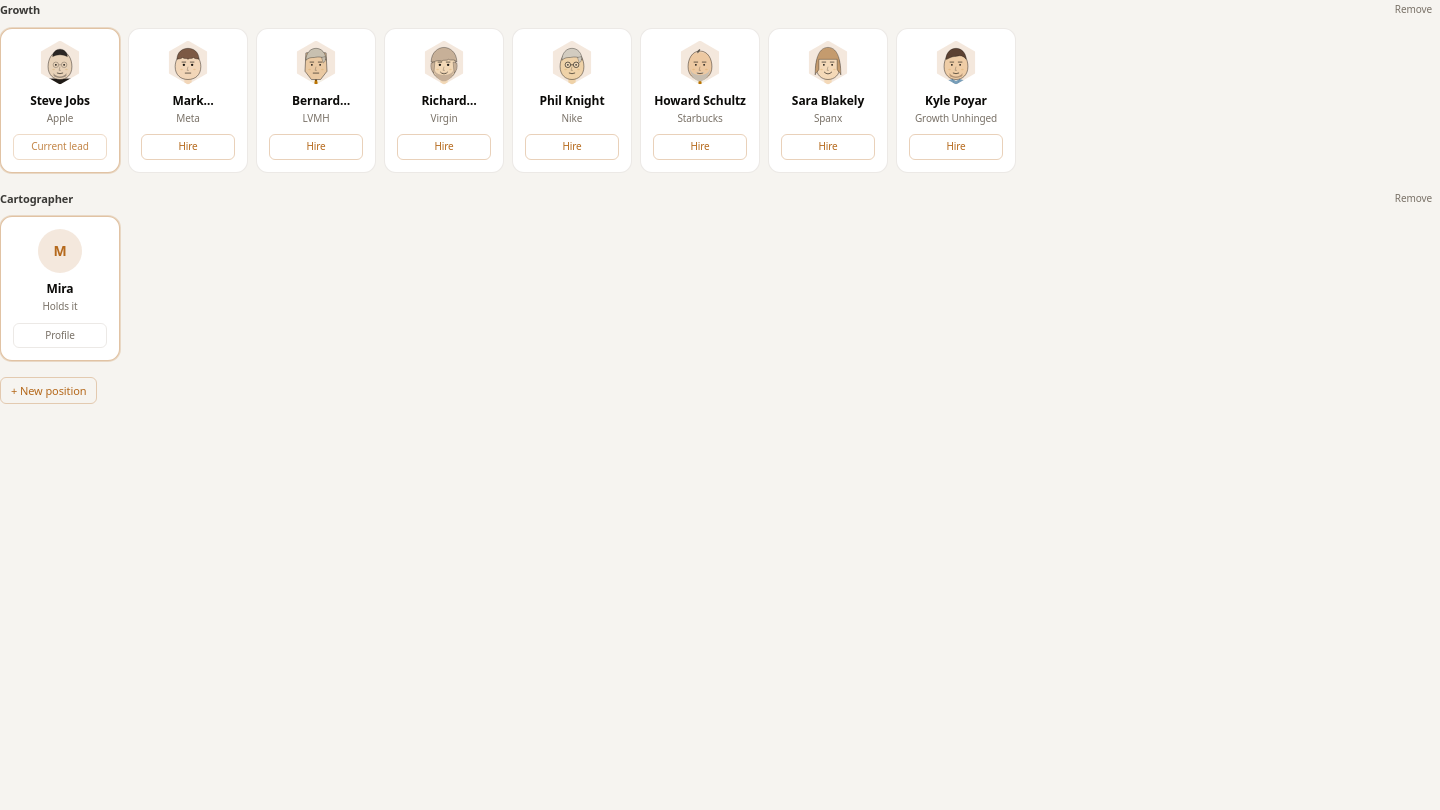
Test case: PositionCatalog › makes a new position a new queen titled by it, and opens her profile
The image size is (1440, 810).
Click the button "+ New position" at (49, 390), box 0,377 -> 98,404
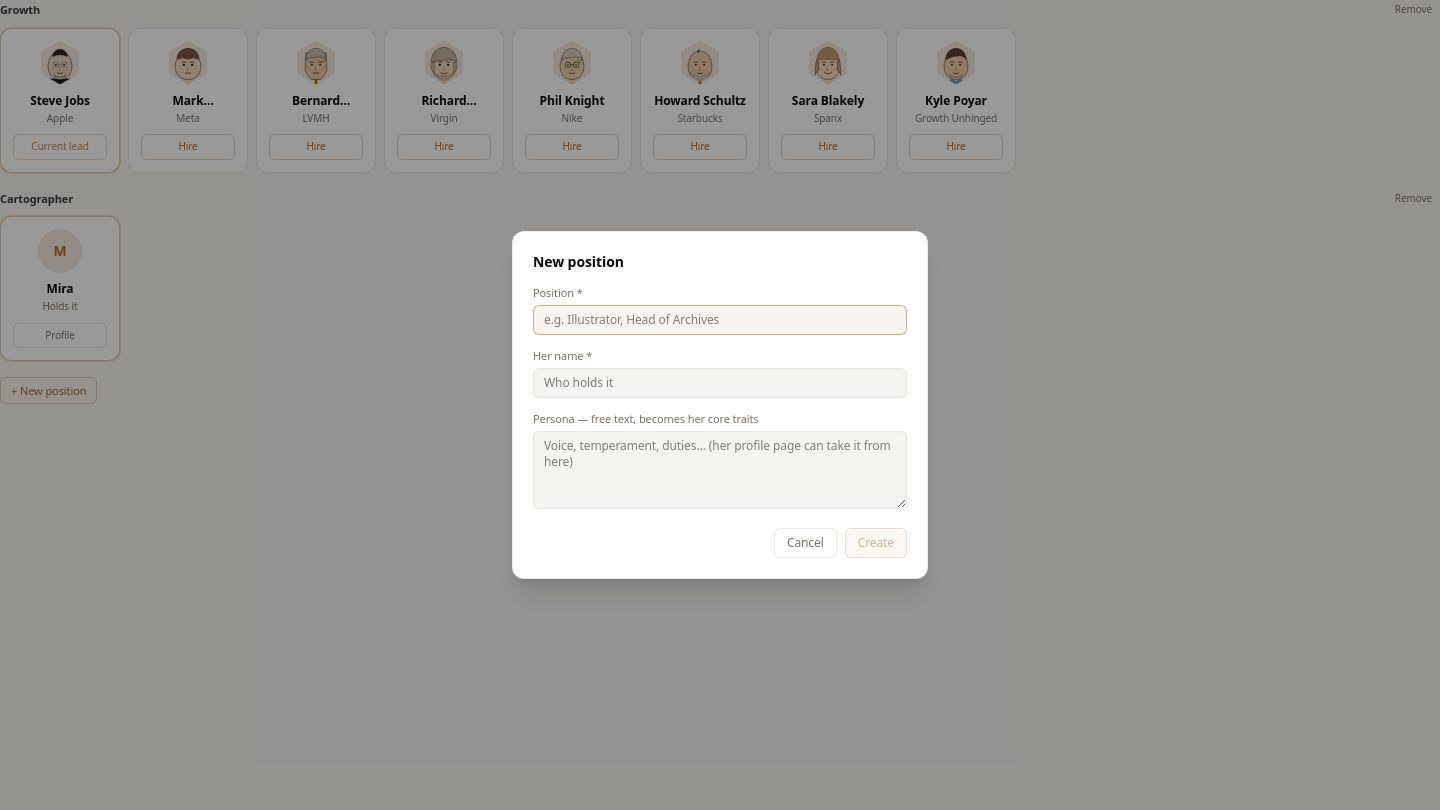
Type " Illustrator " into the field with placeholder "e.g. Illustrator, Head of Archives" at (720, 320), box 533,305 -> 907,335
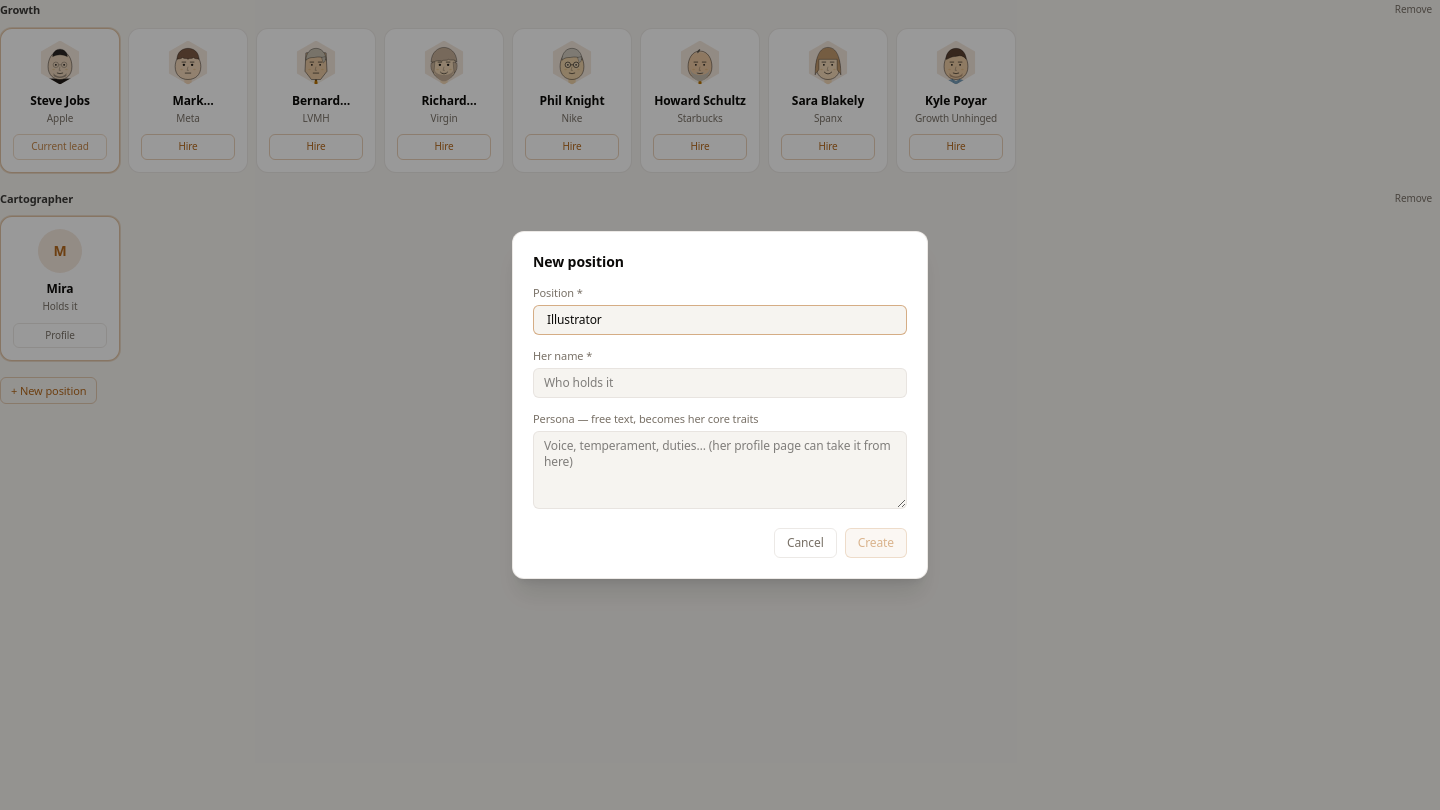
Type "Ivy" into the field with placeholder "Who holds it" at (720, 383), box 533,368 -> 907,398
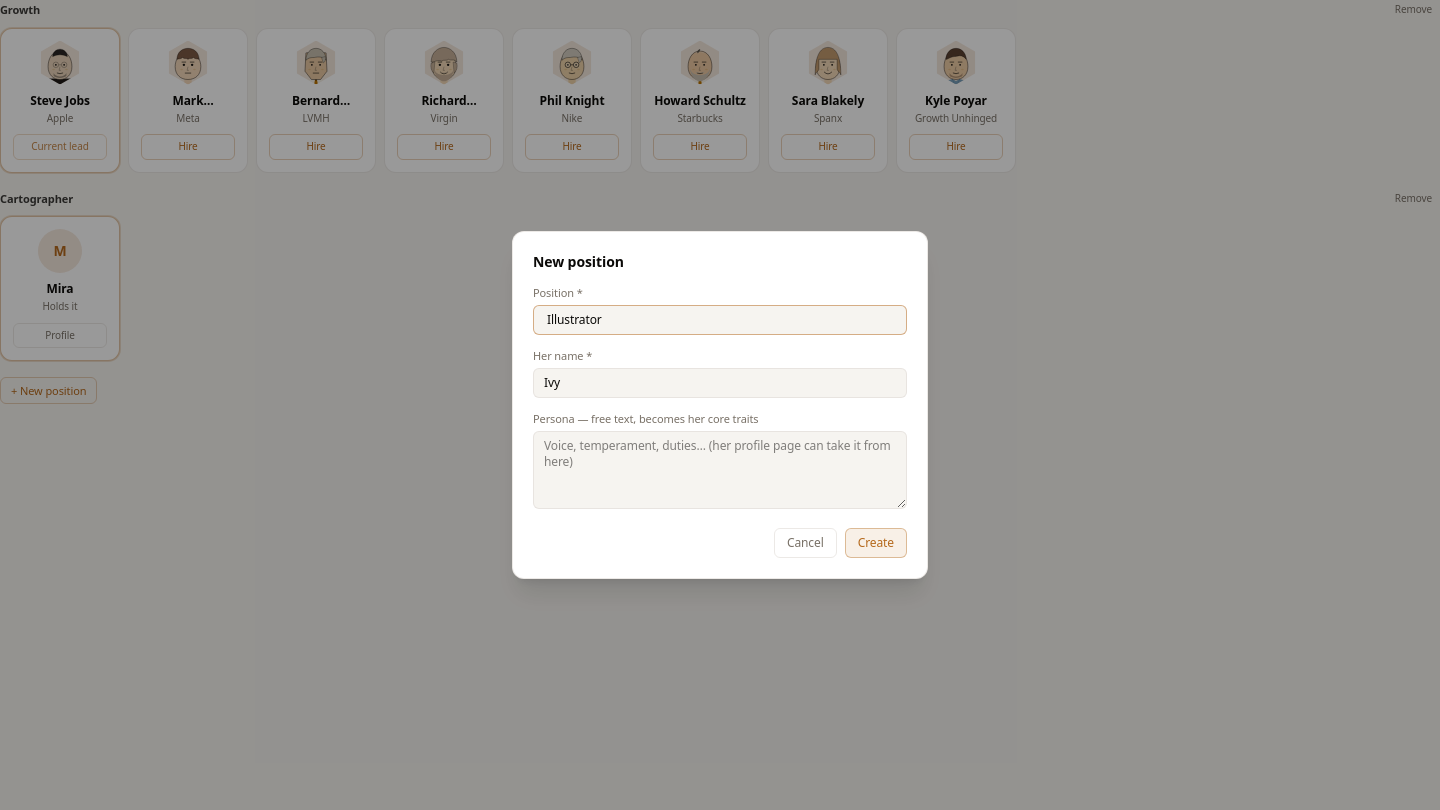
Click the button "Create" at (876, 543), box 845,528 -> 907,558
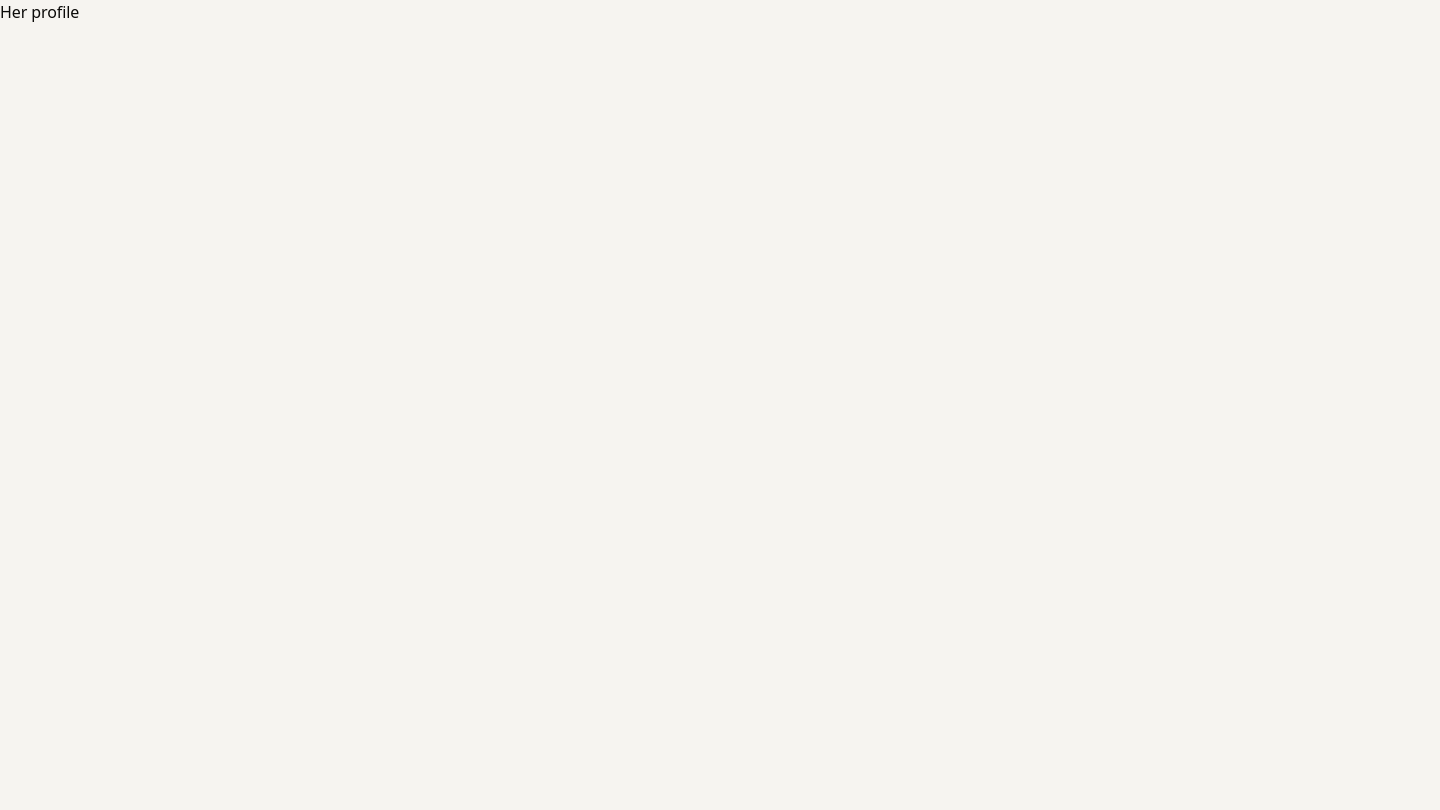
Result: the text "Her profile" is shown at 0,1 -> 79,23
